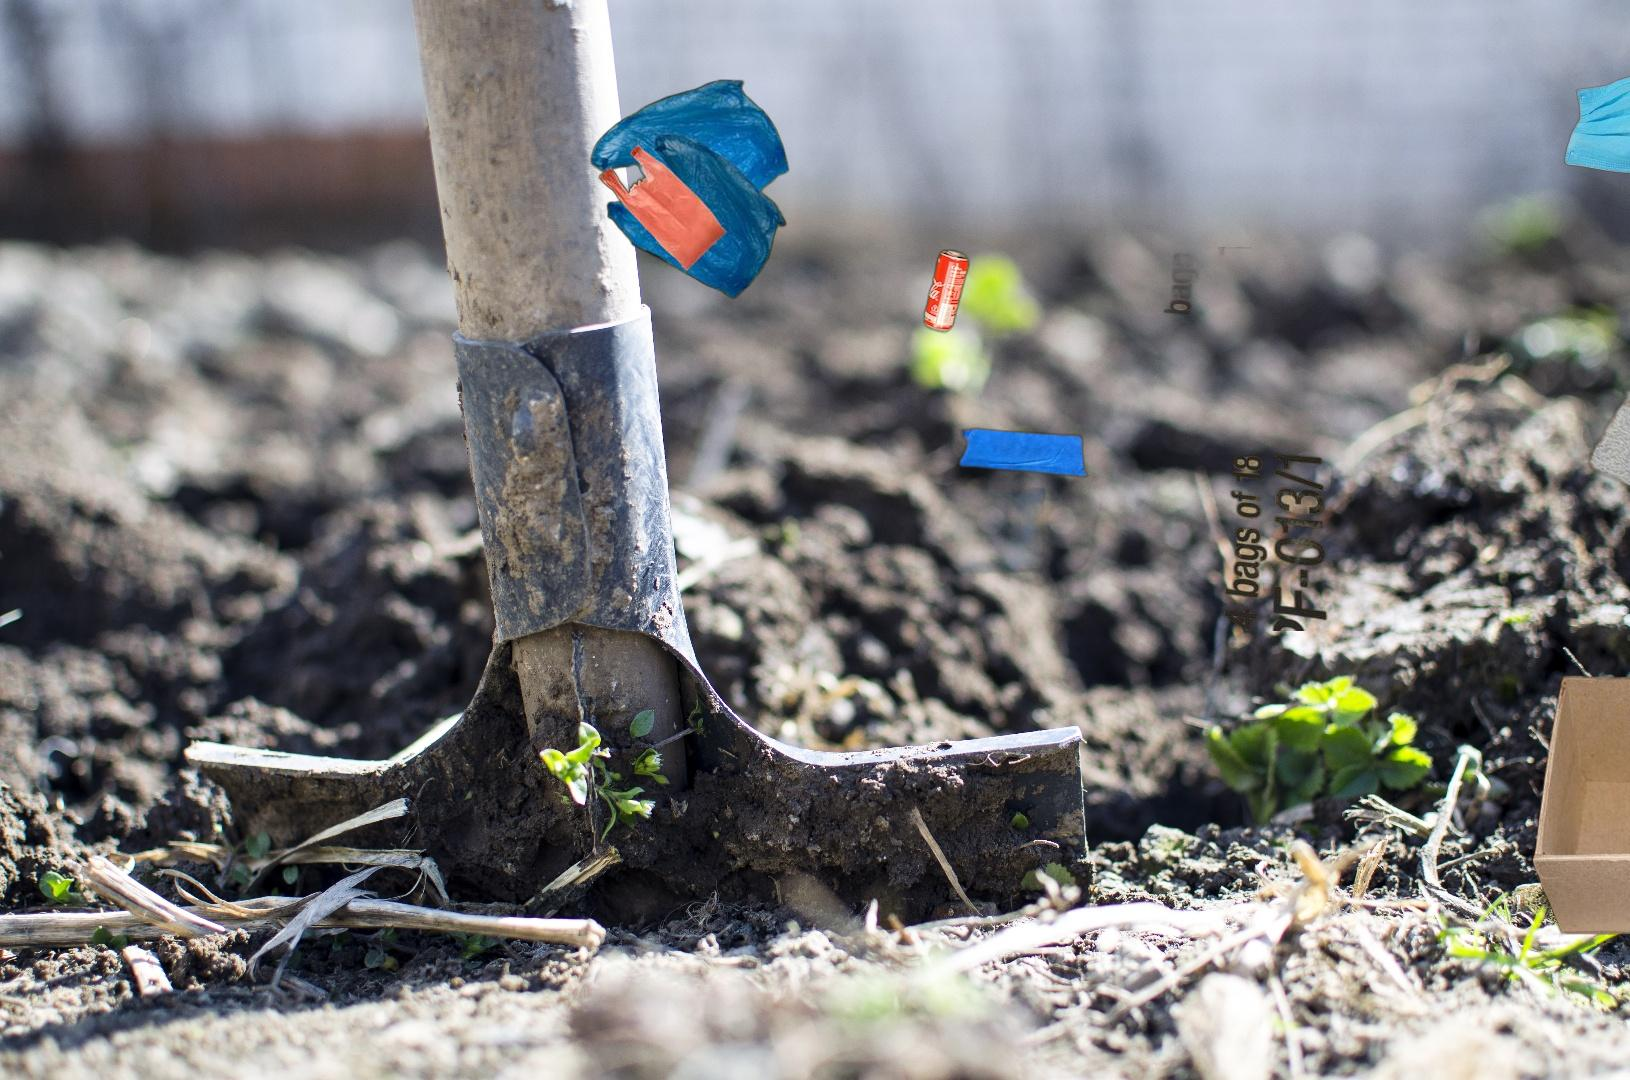metal-cans: (919, 243, 973, 337)
plastic-bag: (588, 78, 792, 301)
plastic-bottles: (1529, 337, 1630, 669)
shoes: (1603, 667, 1630, 828)
trash: (1522, 69, 1630, 177)
trashbox-cardboard: (916, 247, 1331, 630), (1528, 673, 1630, 938)
